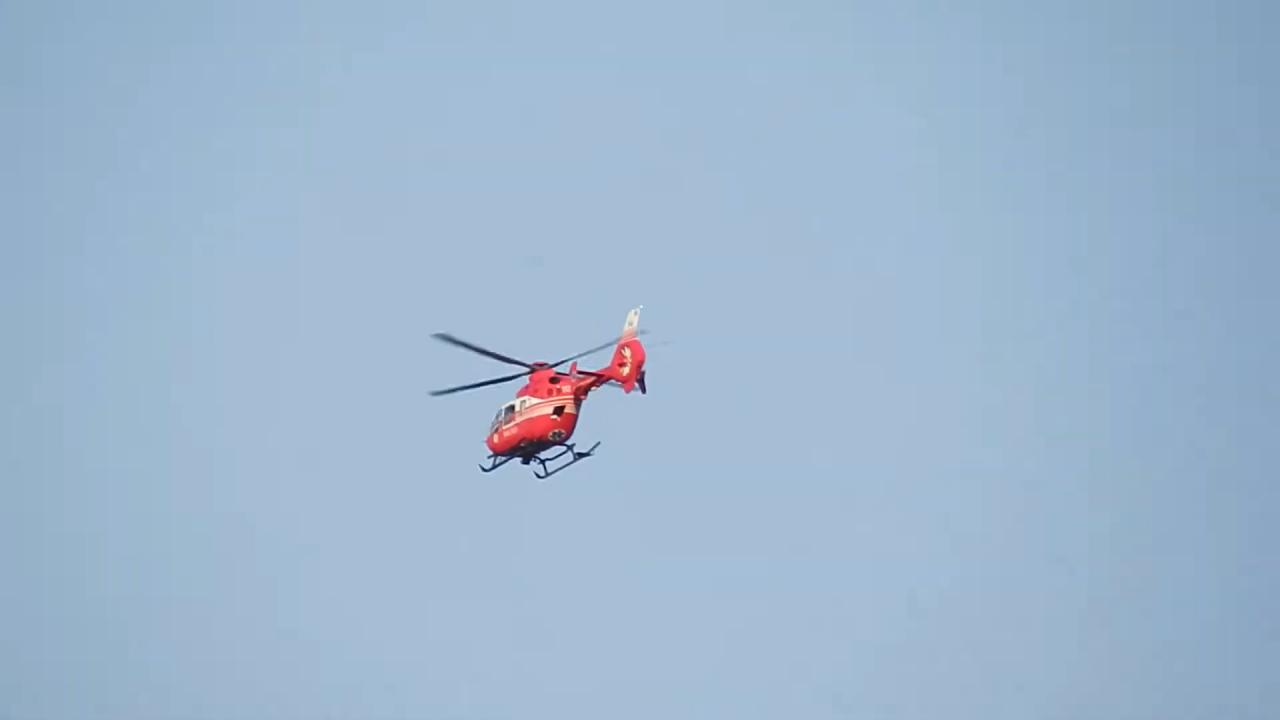Helicopter: (390, 288, 702, 508)
